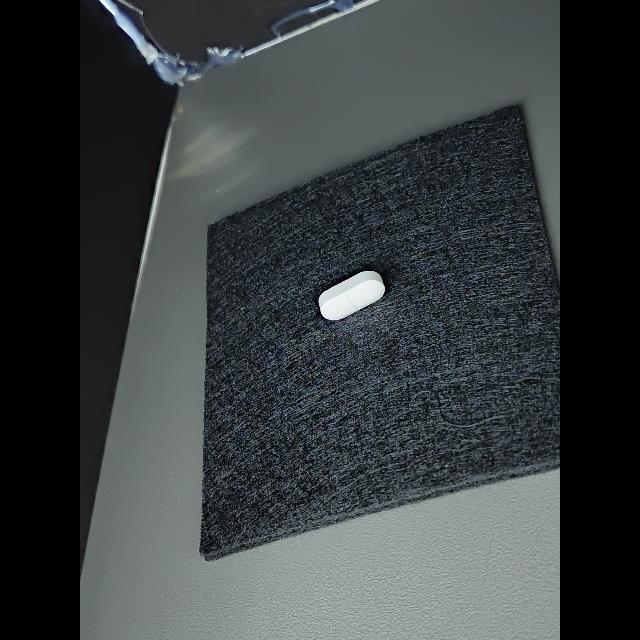Intact Pill: (318, 271, 385, 320)
